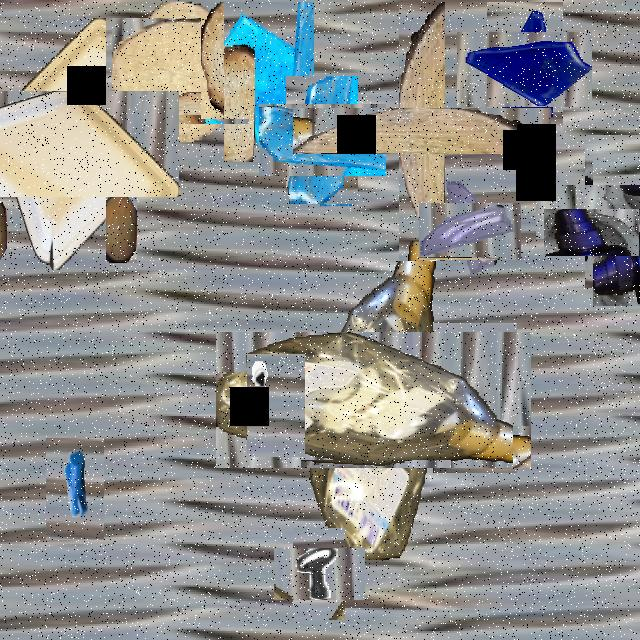glass: (224, 2, 314, 162), (433, 323, 517, 473), (472, 17, 578, 122), (272, 90, 372, 190), (560, 159, 640, 263), (430, 191, 510, 271)
metal: (247, 354, 305, 457), (46, 438, 104, 540), (283, 538, 355, 610)
plastic: (260, 287, 486, 513), (0, 54, 142, 233), (568, 184, 640, 281)
wood: (346, 55, 498, 208), (119, 10, 241, 132), (201, 2, 255, 119), (99, 196, 137, 263)
